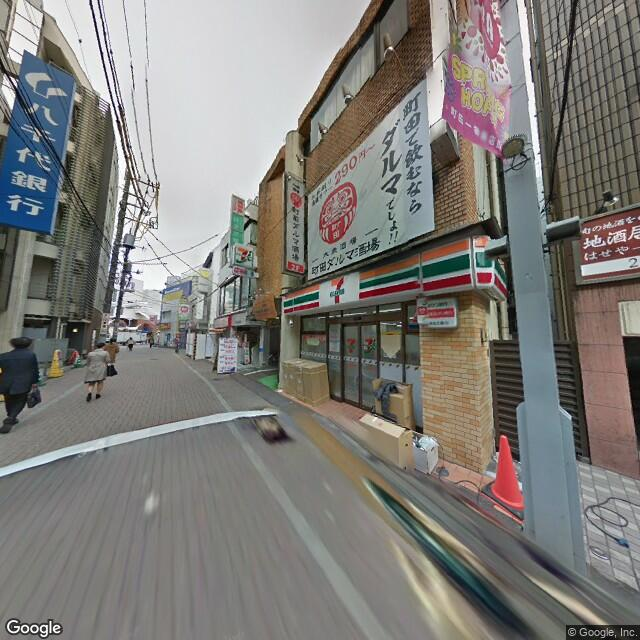7-eleven: (280, 227, 511, 320), (232, 241, 254, 270)
